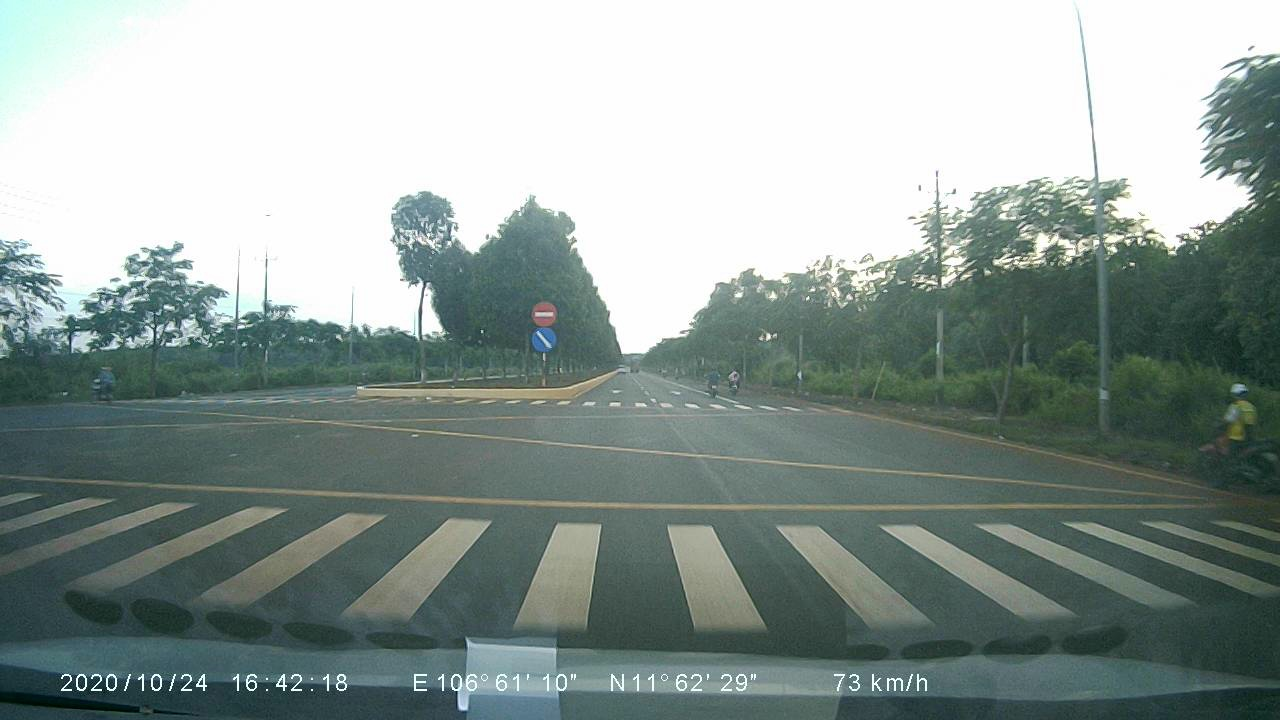Cam di nguoc chieu: (527, 298, 559, 327)
Huong di phai re phai: (528, 329, 560, 352)
